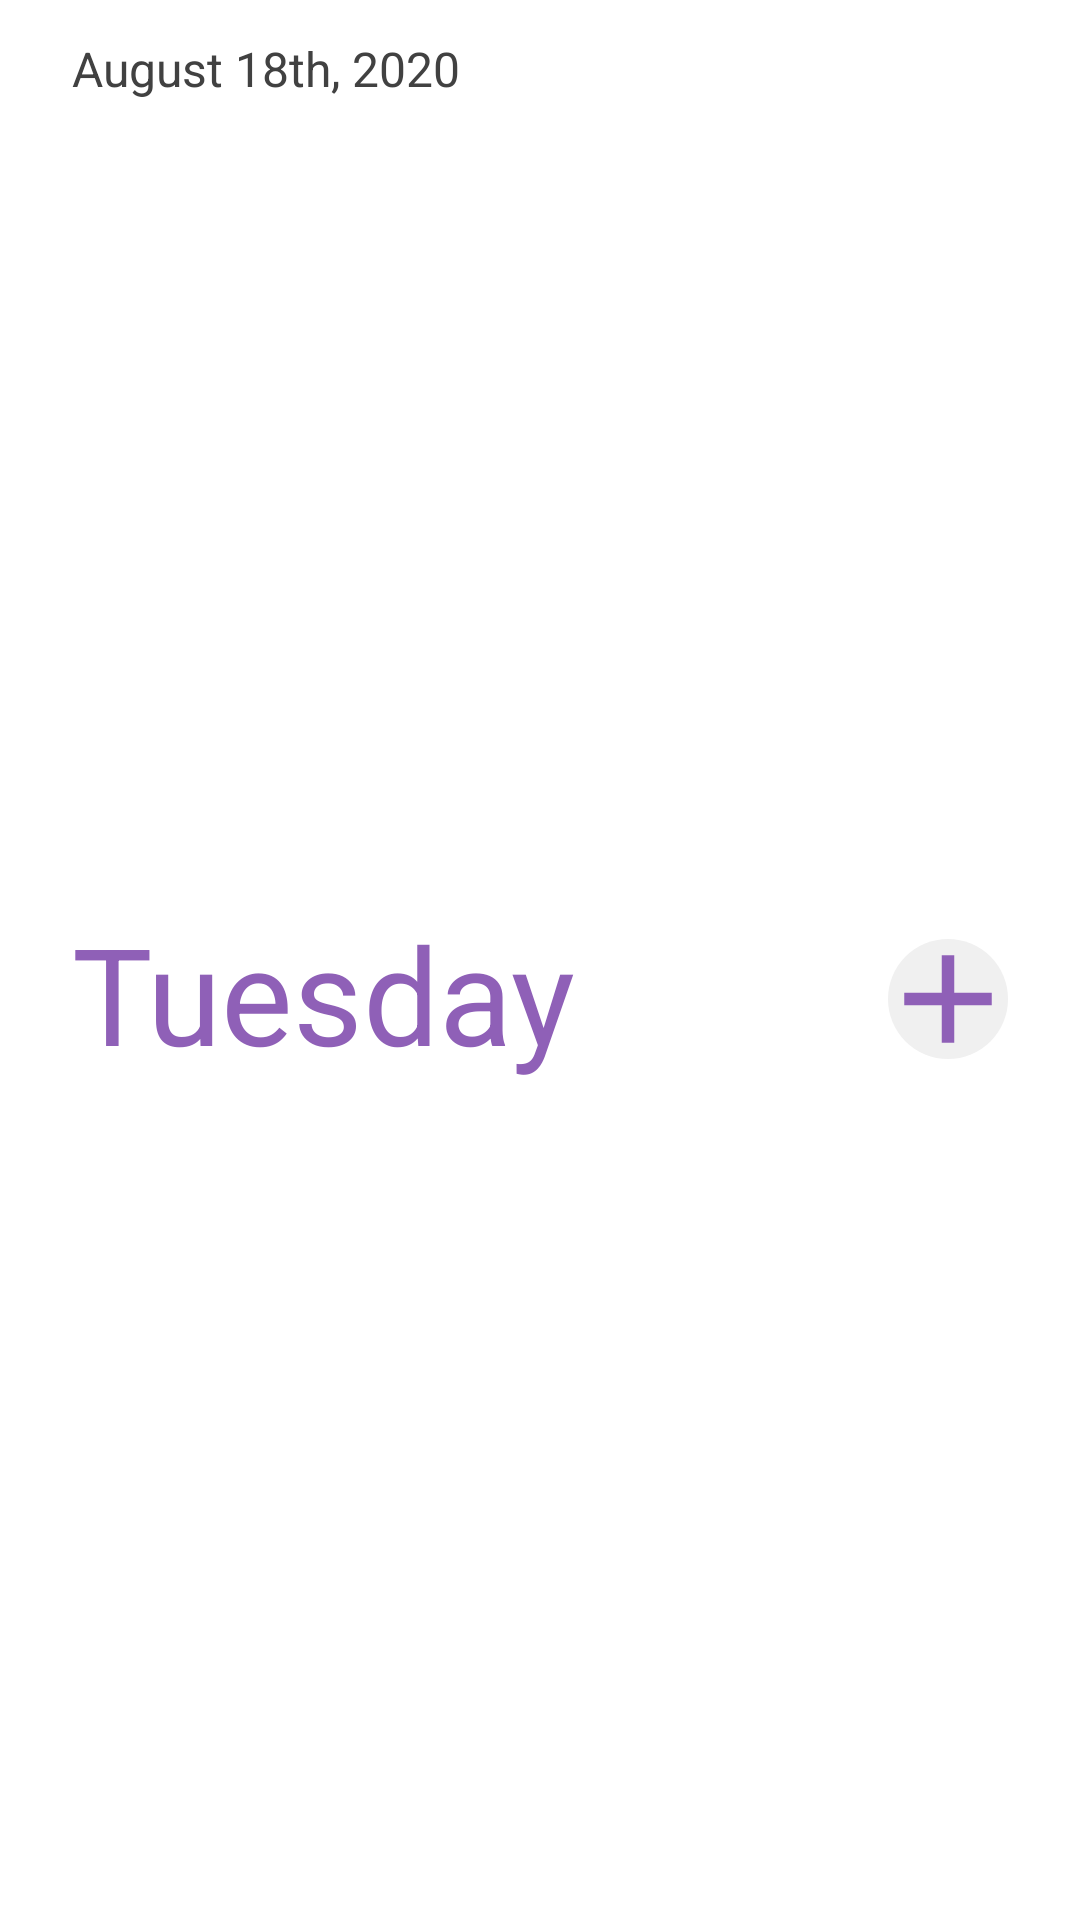

Where icons sit on this 1080px x 1920px app screen, as (x1, y1, x2, y2):
add: (888, 939, 1008, 1059)
